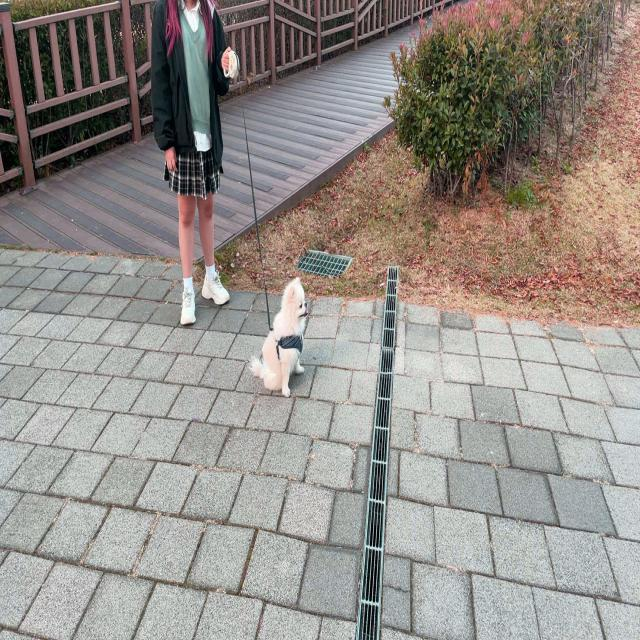Leashed_Dog: (200, 42, 308, 399)
